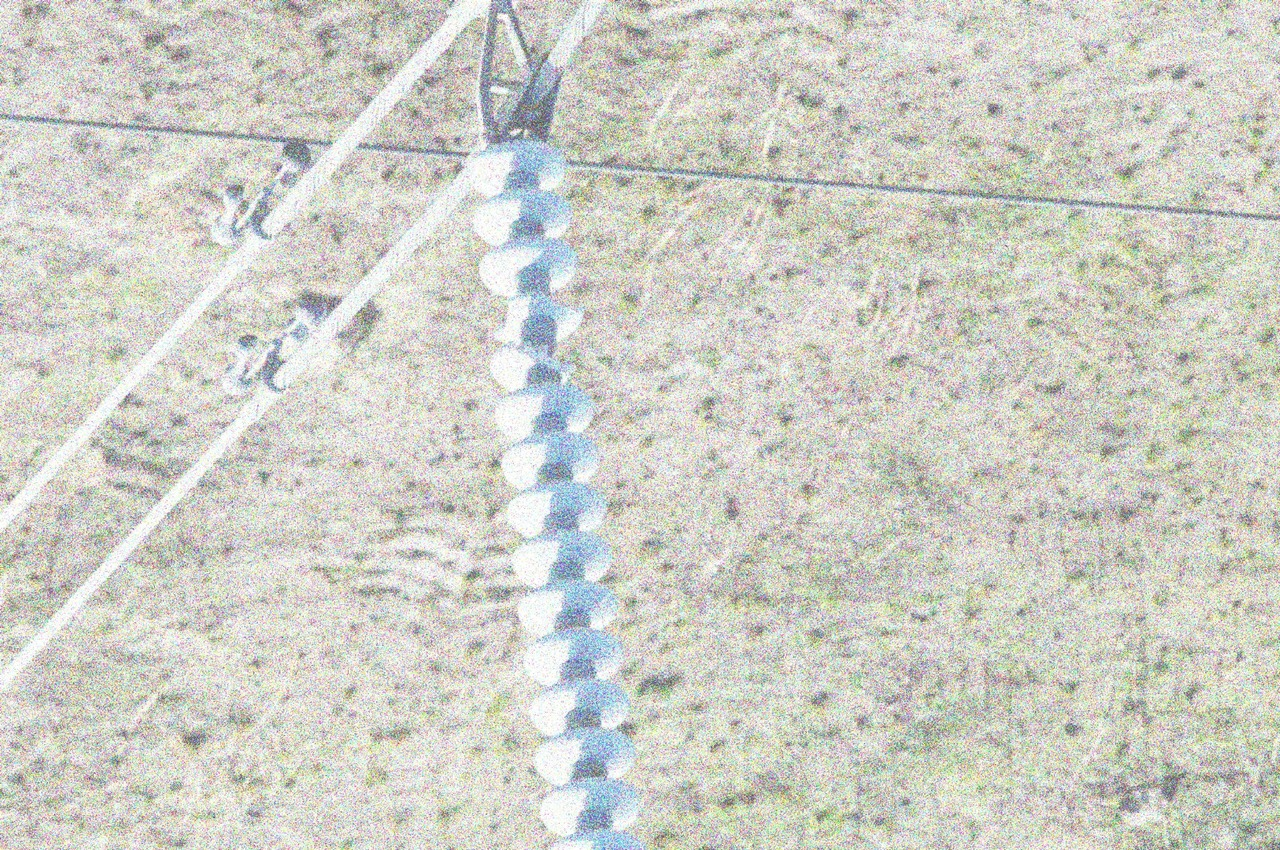Broken: (484, 287, 585, 347), (486, 339, 584, 387)
No issues: (462, 138, 573, 195), (507, 526, 617, 583), (532, 778, 643, 834), (522, 677, 633, 733), (513, 579, 624, 635), (495, 432, 606, 488), (490, 383, 601, 439), (532, 725, 642, 781), (519, 627, 629, 683), (499, 480, 609, 536), (474, 234, 584, 290), (468, 188, 578, 244)
String: (456, 136, 643, 850)
